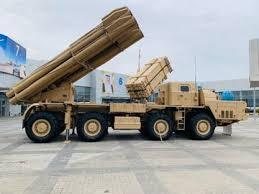MIL_SAM_TEL: (7, 8, 245, 143)
